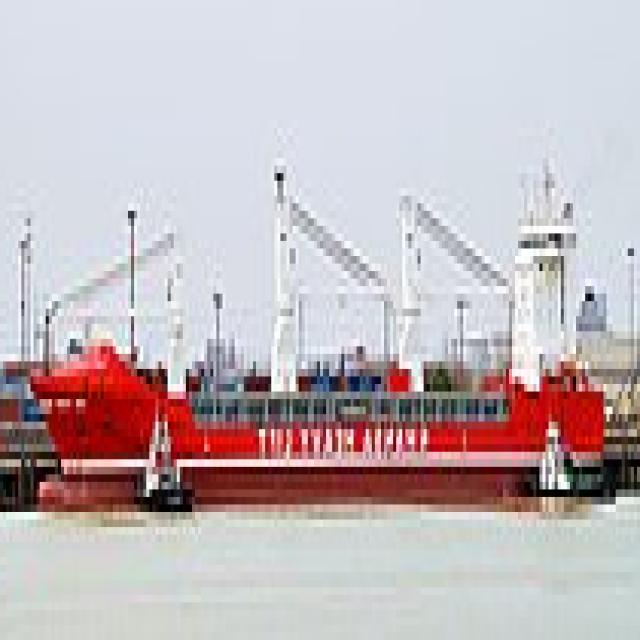Cargo: (31, 143, 610, 505)
